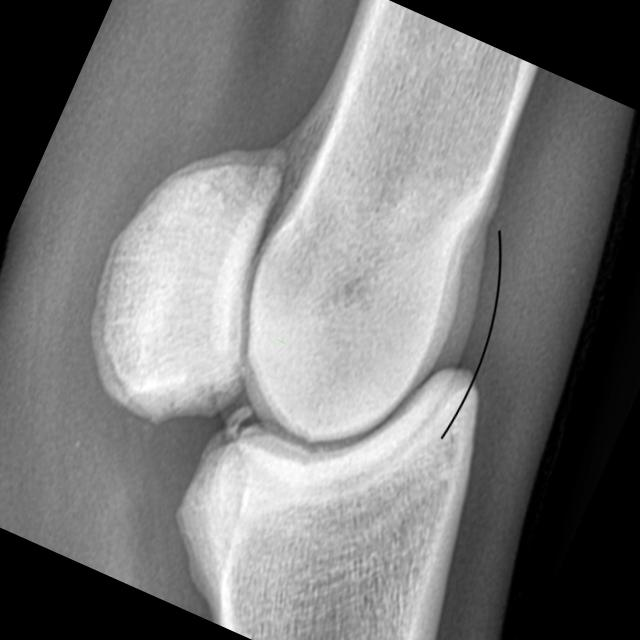bone remodeling: (80, 272, 369, 578)
